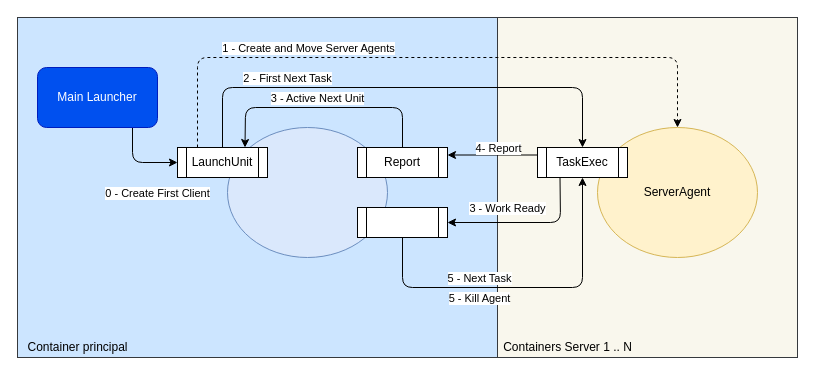
This 815x375 diagram has some shape labels left out. Here are the shapes that lost their labels. From the top down, the centre of each, then its label:
At (307,192): "ClientAgent".
At (402,222): "ServerReady".
